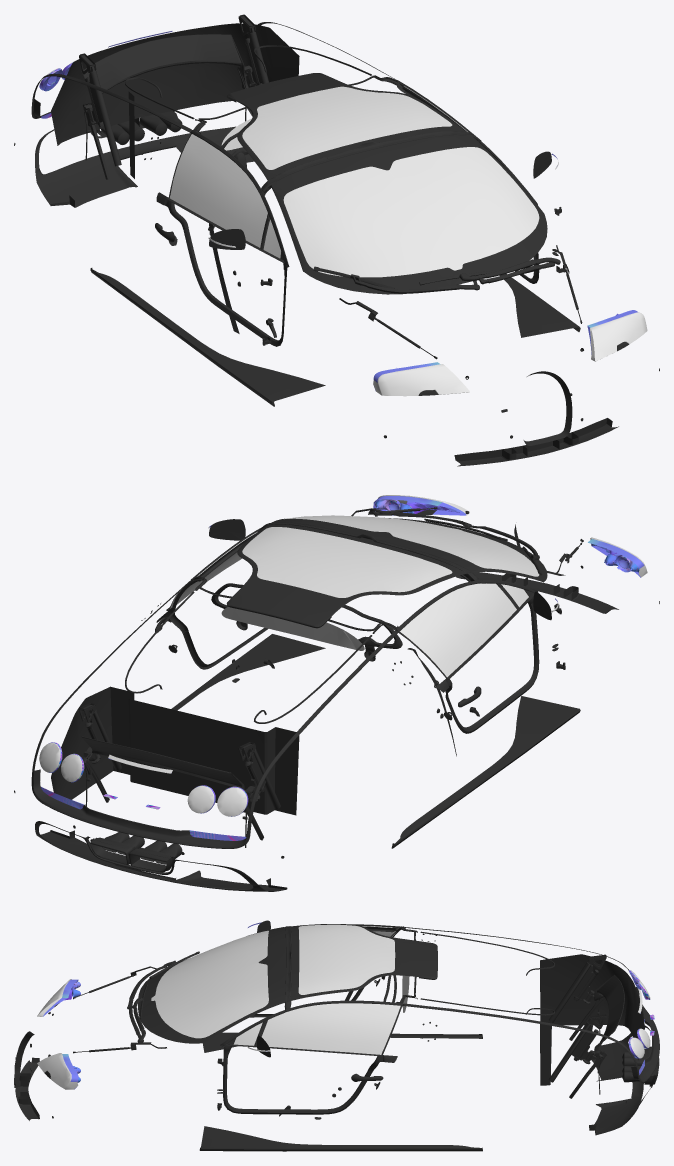
The model's file is bugotti_veyron_top.fbx.
3 views of the same model, one above another, from view 1: azimuth 30°, elevation 25°; view 2: azimuth 150°, elevation 25°; view 3: azimuth 270°, elevation 25° (orthographic). The views are drawn at different scales.
Visible parts, largest first — view 1: Body_Bugatti_VeyronGrandSport__17099, SeeThrough_Bugatti_VeyronGrandSport__2721, Body_Bugatti_VeyronGrandSport__11274; view 2: Body_Bugatti_VeyronGrandSport__17099, SeeThrough_Bugatti_VeyronGrandSport__2721, Body_Bugatti_VeyronGrandSport__11274; view 3: Body_Bugatti_VeyronGrandSport__17099, SeeThrough_Bugatti_VeyronGrandSport__2721, Body_Bugatti_VeyronGrandSport__11274.
Boxes of the visible parts, x1,y1,x2,y2 form: Body_Bugatti_VeyronGrandSport__17099: (14, 14, 659, 466); SeeThrough_Bugatti_VeyronGrandSport__2721: (40, 30, 647, 396); Body_Bugatti_VeyronGrandSport__11274: (39, 31, 637, 390); Body_Bugatti_VeyronGrandSport__17099: (14, 507, 659, 891); SeeThrough_Bugatti_VeyronGrandSport__2721: (39, 495, 647, 816); Body_Bugatti_VeyronGrandSport__11274: (41, 496, 644, 840); Body_Bugatti_VeyronGrandSport__17099: (14, 920, 659, 1151); SeeThrough_Bugatti_VeyronGrandSport__2721: (37, 922, 650, 1089); Body_Bugatti_VeyronGrandSport__11274: (43, 922, 654, 1089).
Bounding box in the file's own units: 210 × 108 × 445.
